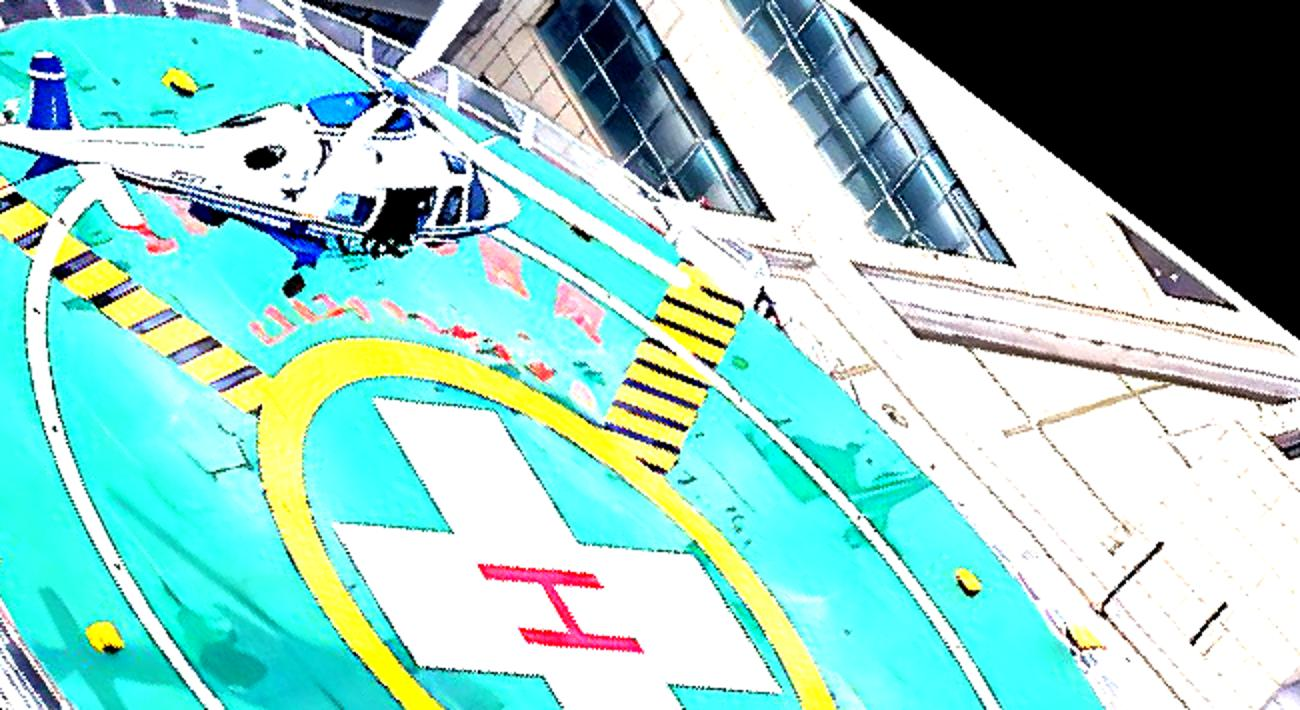Apron: (247, 292, 844, 710)
